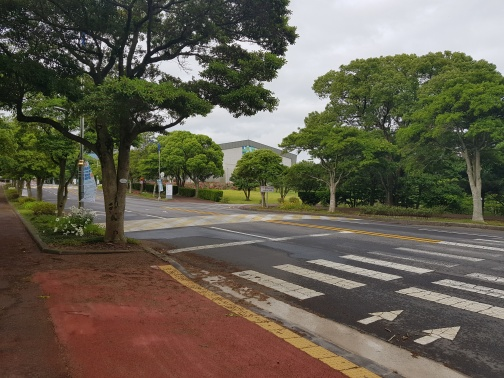Gym: (205, 136, 297, 189)
